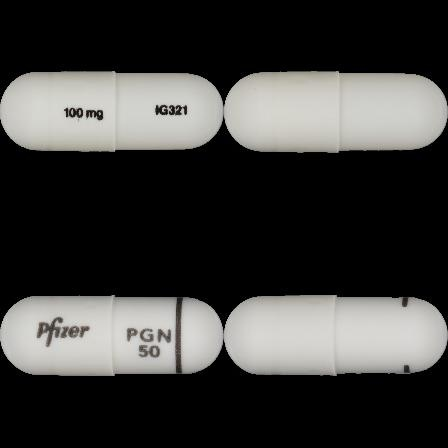50436-1263: (0, 0, 224, 224)
